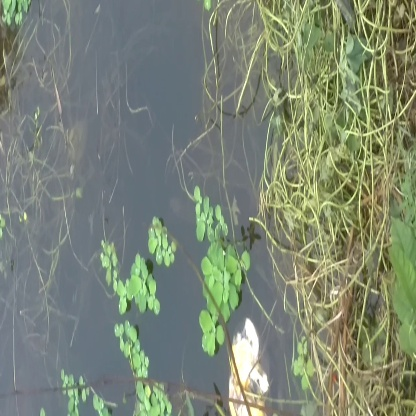leaf: (196, 182, 226, 246)
